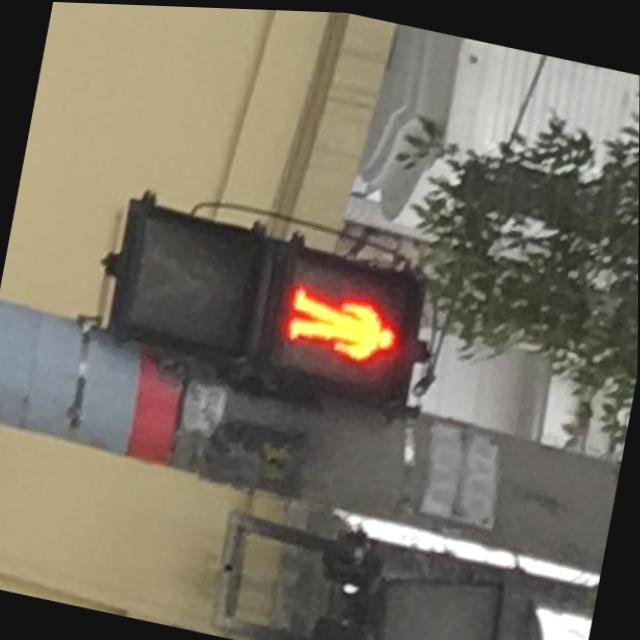red_light: (272, 258, 413, 393)
